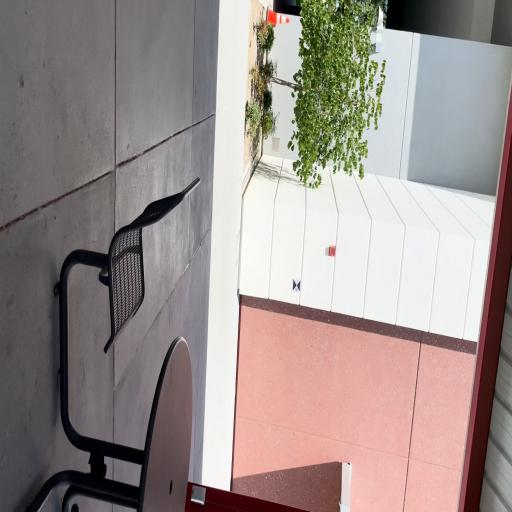target9: (292, 278, 301, 293)
